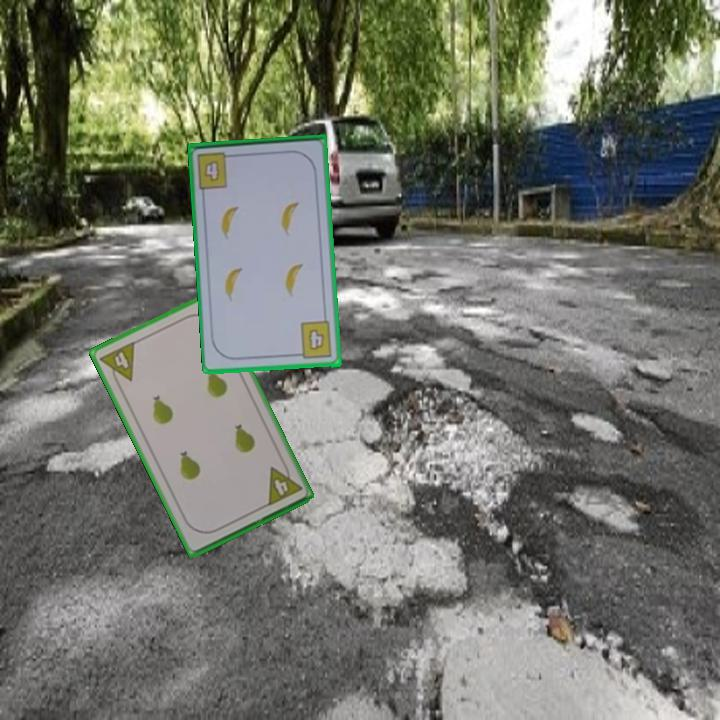4b: (292, 318, 335, 362), (201, 157, 223, 185)
4p: (96, 338, 138, 389), (263, 459, 305, 509)
